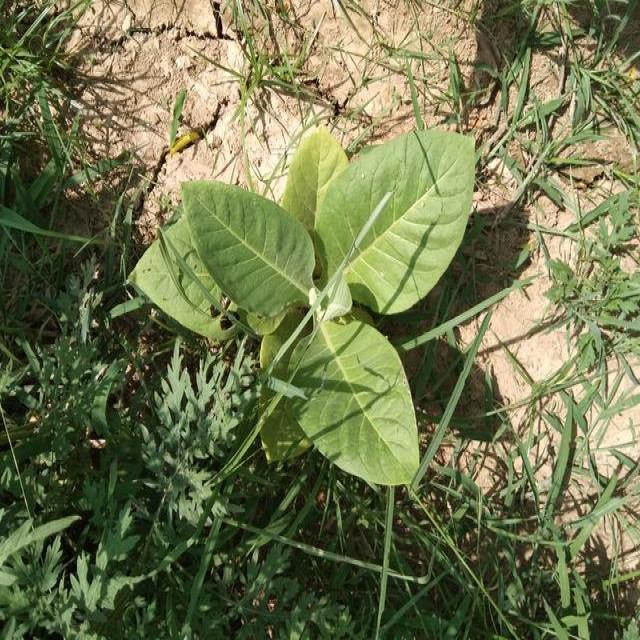crop: (140, 128, 493, 492)
